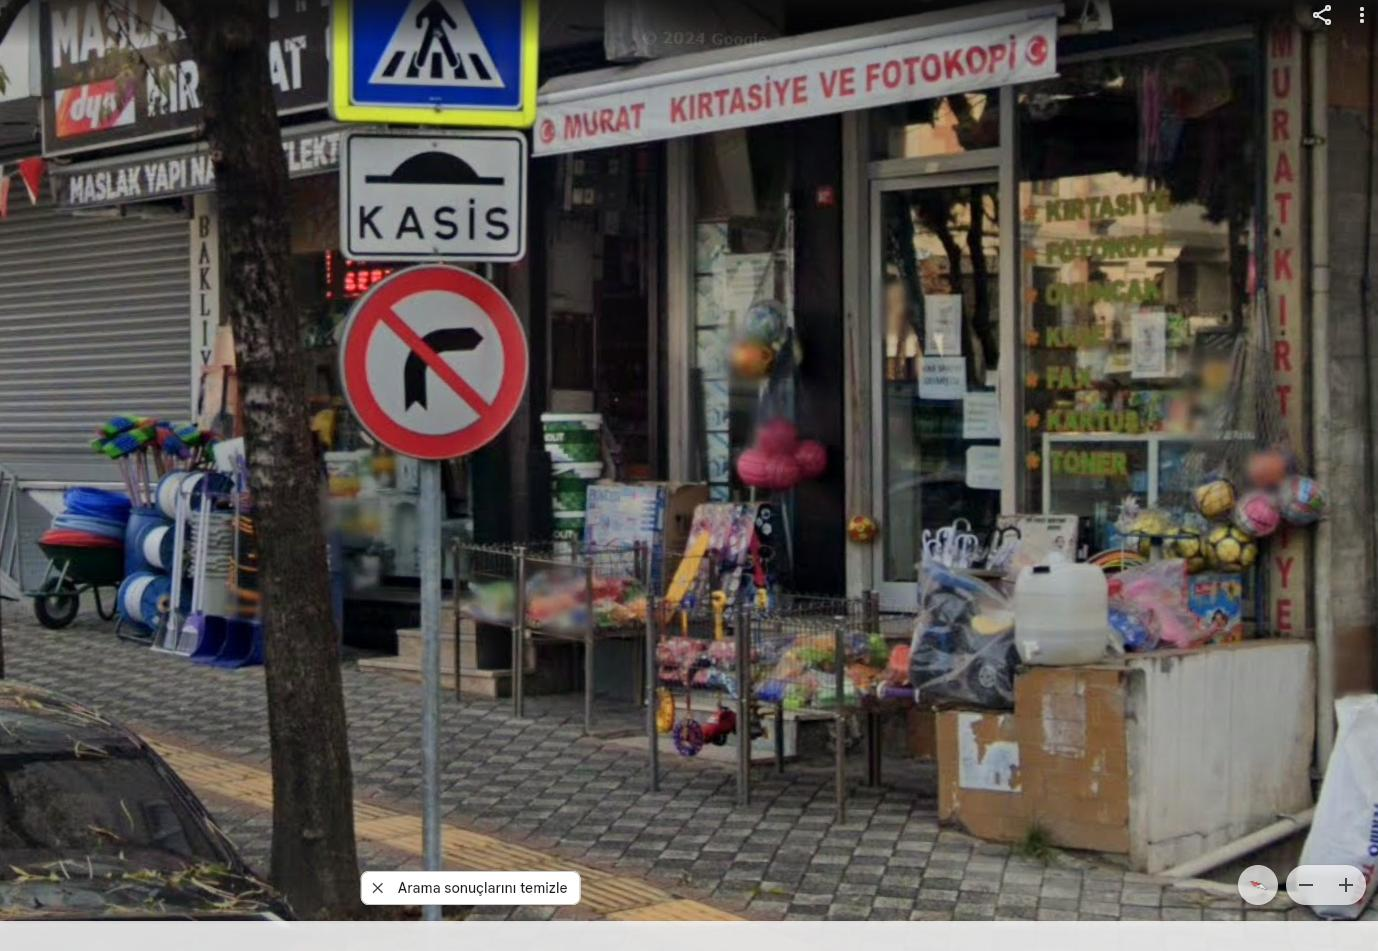rightturnsareforbidden: (349, 275, 523, 444)
